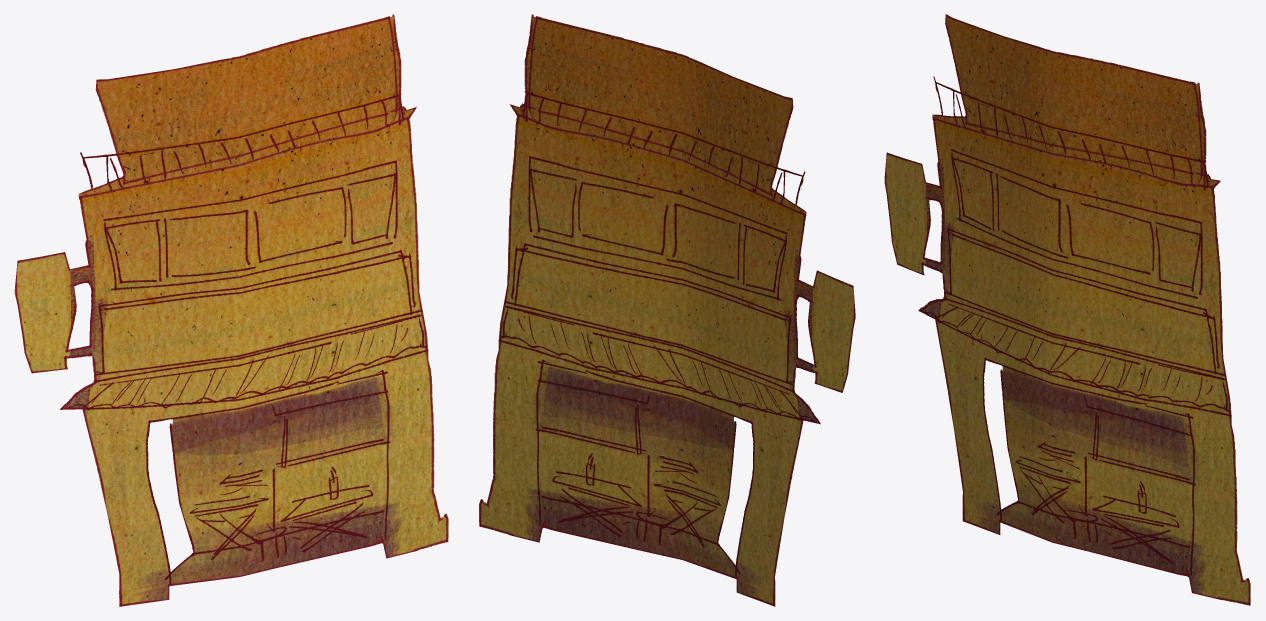
The model's file is 02_front_bld_04.fbx.
3 renders of one model, left to right at view 1: azimuth 30°, elevation 25°; view 2: azimuth 150°, elevation 25°; view 3: azimuth 330°, elevation 25°, orthographic. The views are drawn at different scales.
Parts seen in each view (by area): view 1: 02_front_bld_04; view 2: 02_front_bld_04; view 3: 02_front_bld_04.
Part boxes in pixels (<box>): 02_front_bld_04: <box>14,14,448,606</box>; 02_front_bld_04: <box>479,14,855,606</box>; 02_front_bld_04: <box>884,14,1250,605</box>.
Bounding box in the file's own units: 260 × 327 × 25.57.
1 material, 1 textured.
